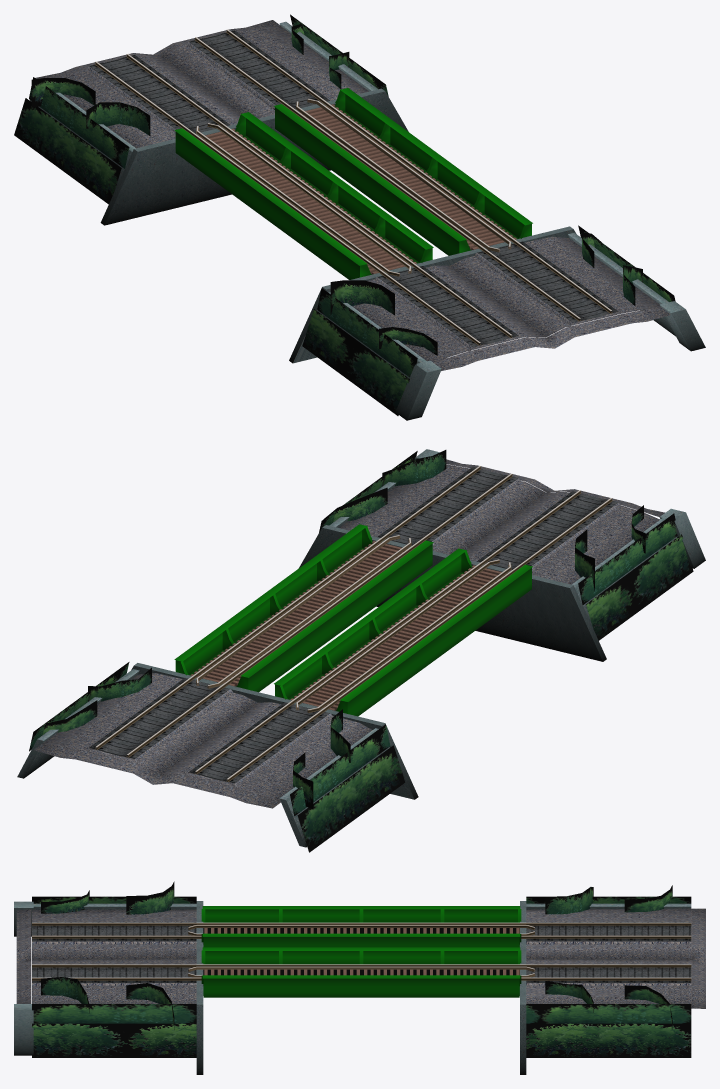
Rendered from 2RAIL_KYO_TEKKYOU.glb.
3 renders of one model, top to bottom at view 1: azimuth 30°, elevation 25°; view 2: azimuth 150°, elevation 25°; view 3: azimuth 270°, elevation 25°, orthographic. The views are drawn at different scales.
Visible parts, largest first — view 1: obj5; view 2: obj5; view 3: obj5.
Part boxes in pixels (x1,y1,x2,y2): obj5: [14, 14, 705, 420]; obj5: [17, 449, 705, 852]; obj5: [14, 881, 705, 1074].
Size of the model in its own units: 47.2 by 12.27 by 105.
Materials: 6 (5 with a texture image).
